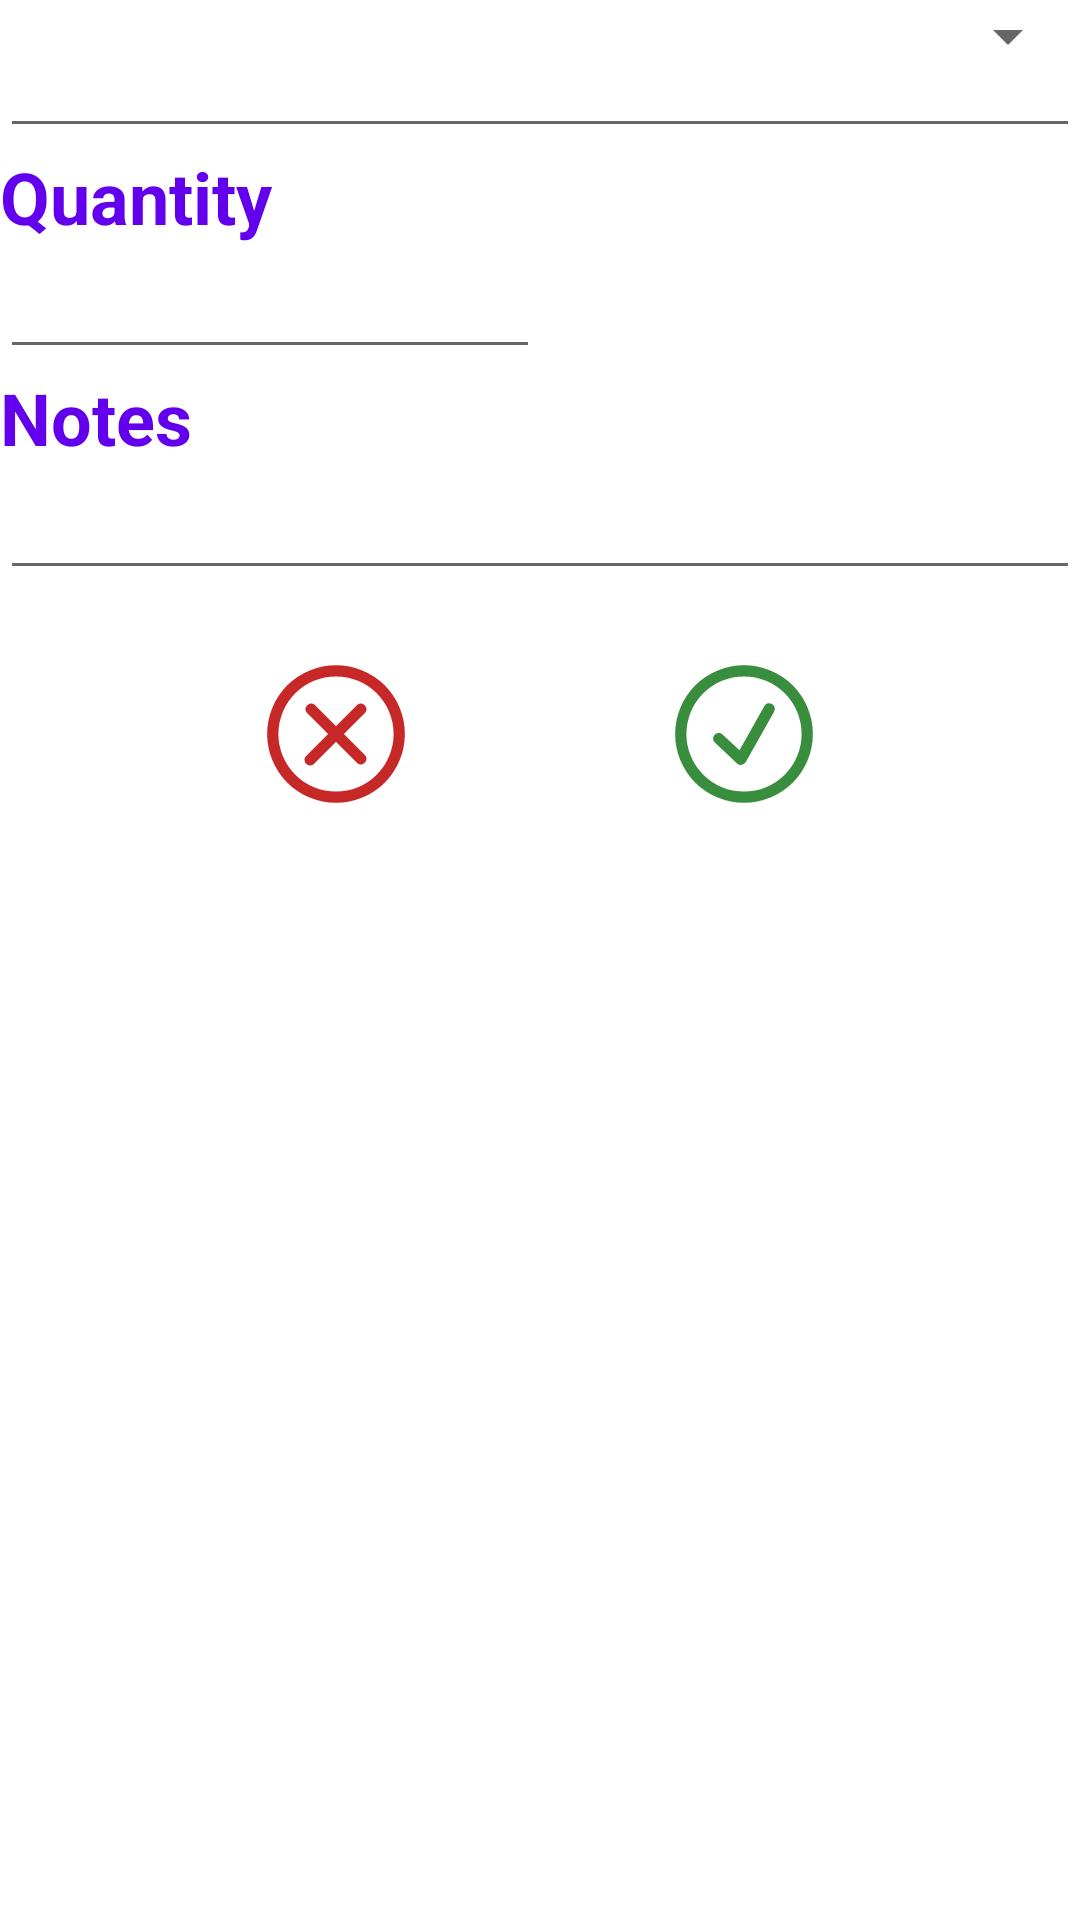

Locate icon controls on the screen. Image size 1080 × 1920, boxes as detection(x1, y1, x2, y2).
negative state: detection(267, 665, 405, 803)
positive state: detection(675, 665, 813, 803)
